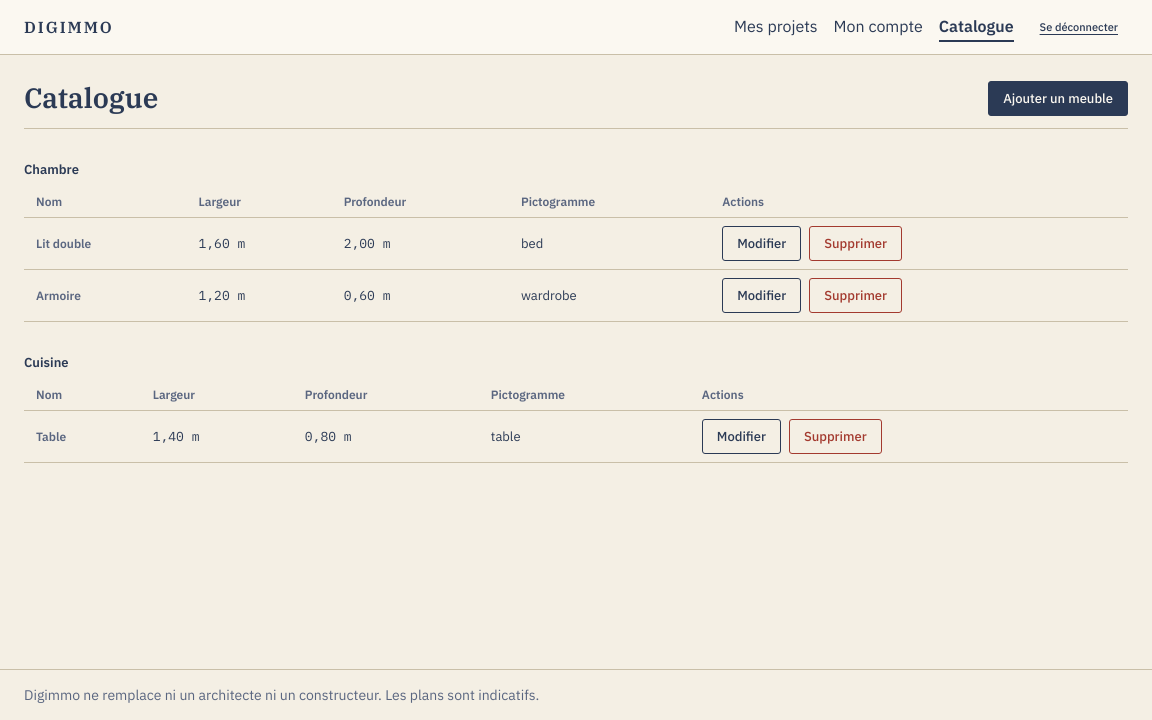
administration du catalogue › focus restitué : Annuler puis enregistrement d'une modification
Click the button "Ajouter un meuble": [1058, 98] box left=988, top=81, right=1128, bottom=116
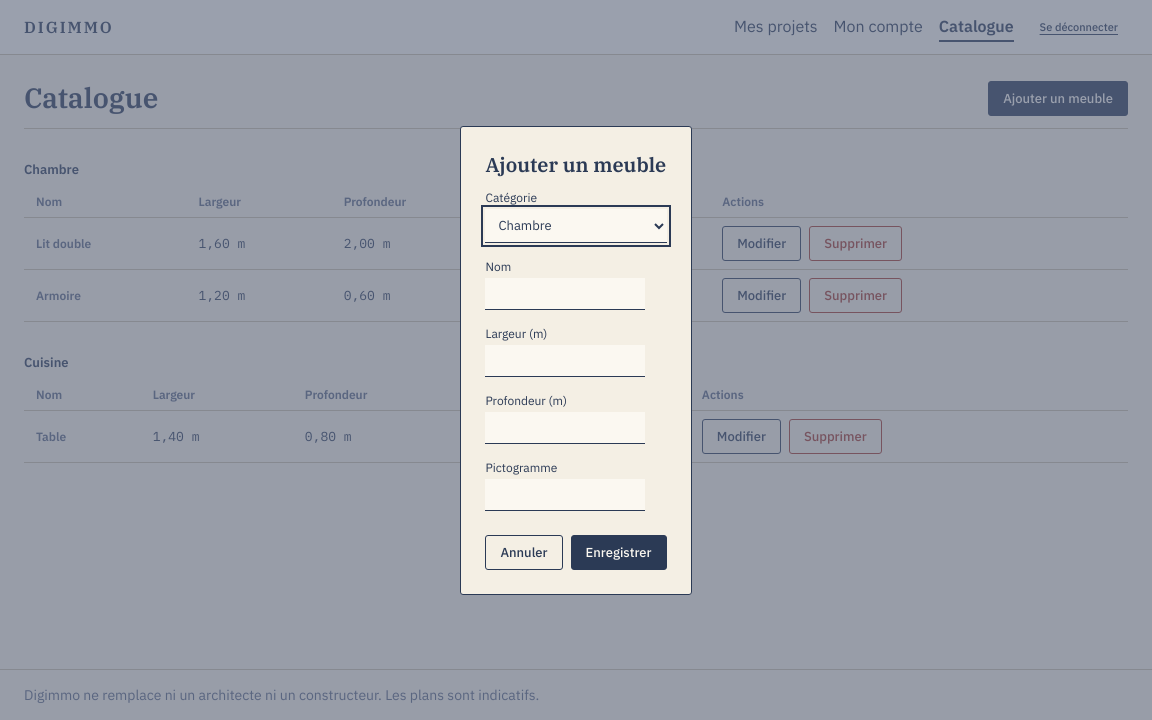
Click the button "Annuler": [524, 552] box left=485, top=534, right=562, bottom=570
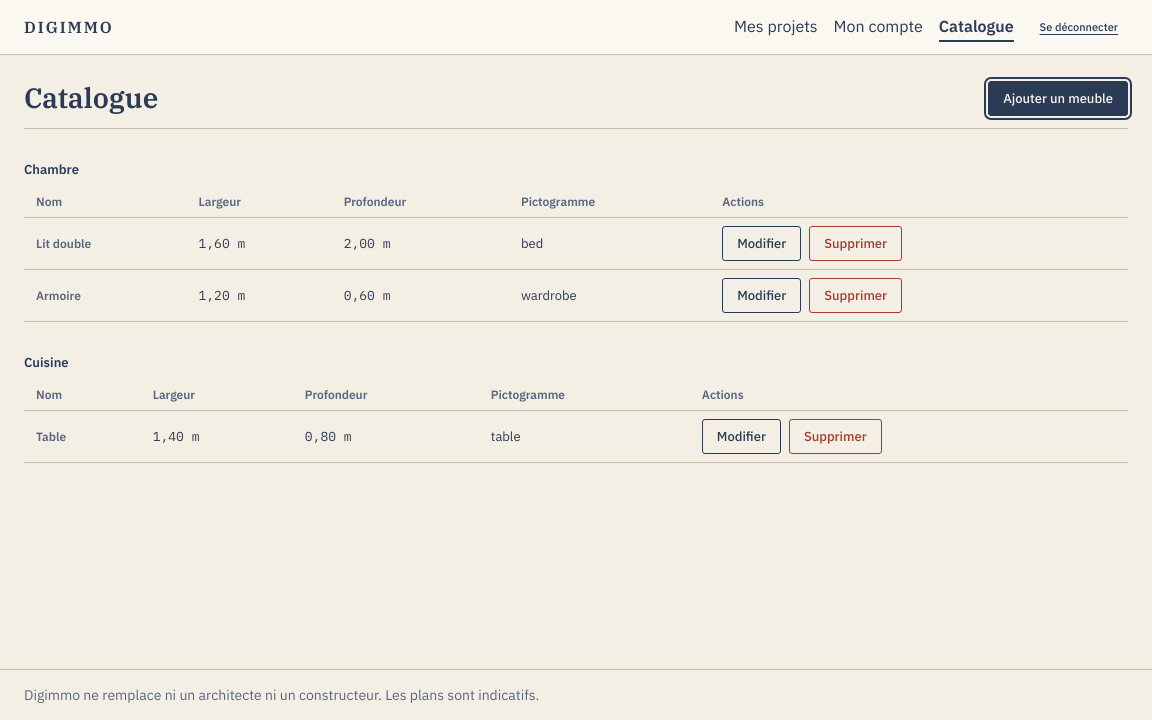
Click the button with aria-label "Modifier Lit double": [762, 244] box left=722, top=226, right=801, bottom=261
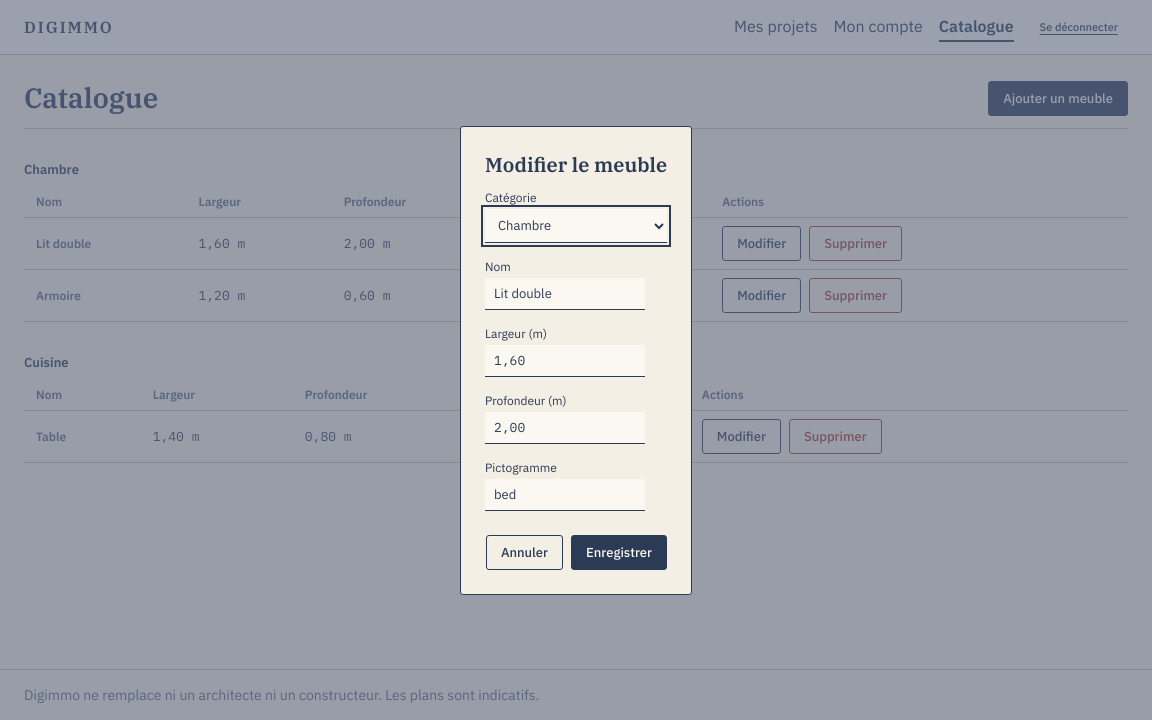
Click the button "Enregistrer": [619, 552] box left=571, top=534, right=667, bottom=570
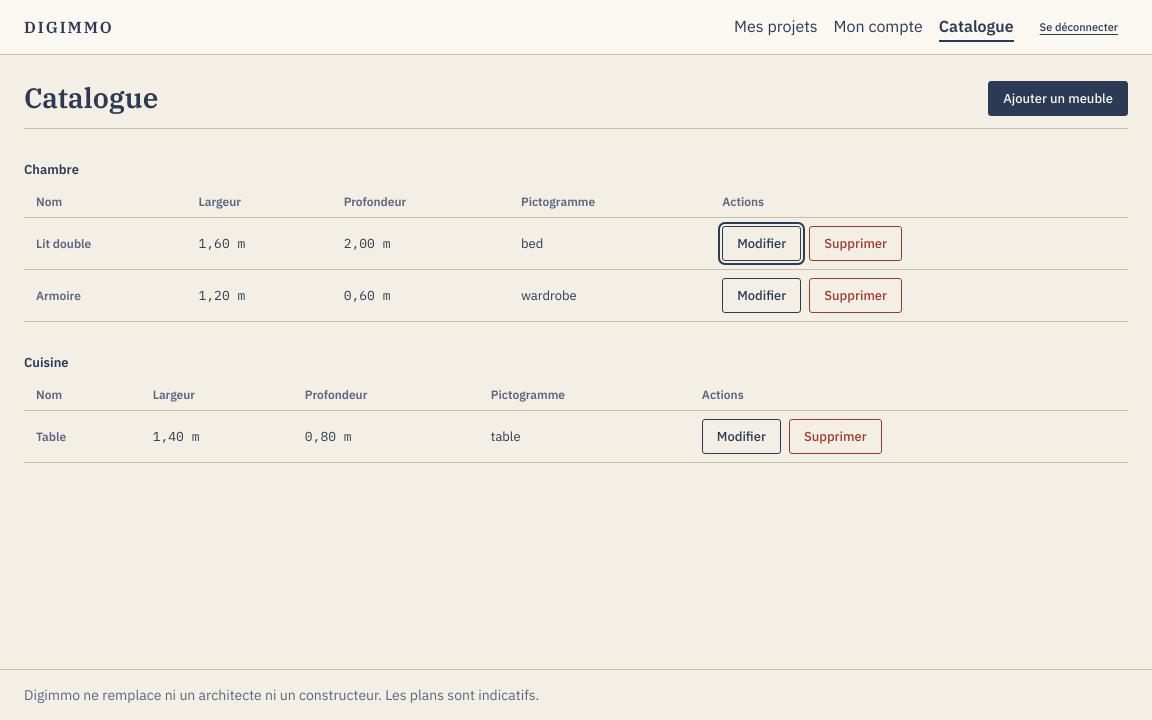
Result: the dialog is gone
